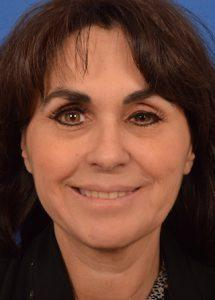normalMouth: (50, 176, 162, 211)
strokeEyeMid: (38, 83, 178, 140)
